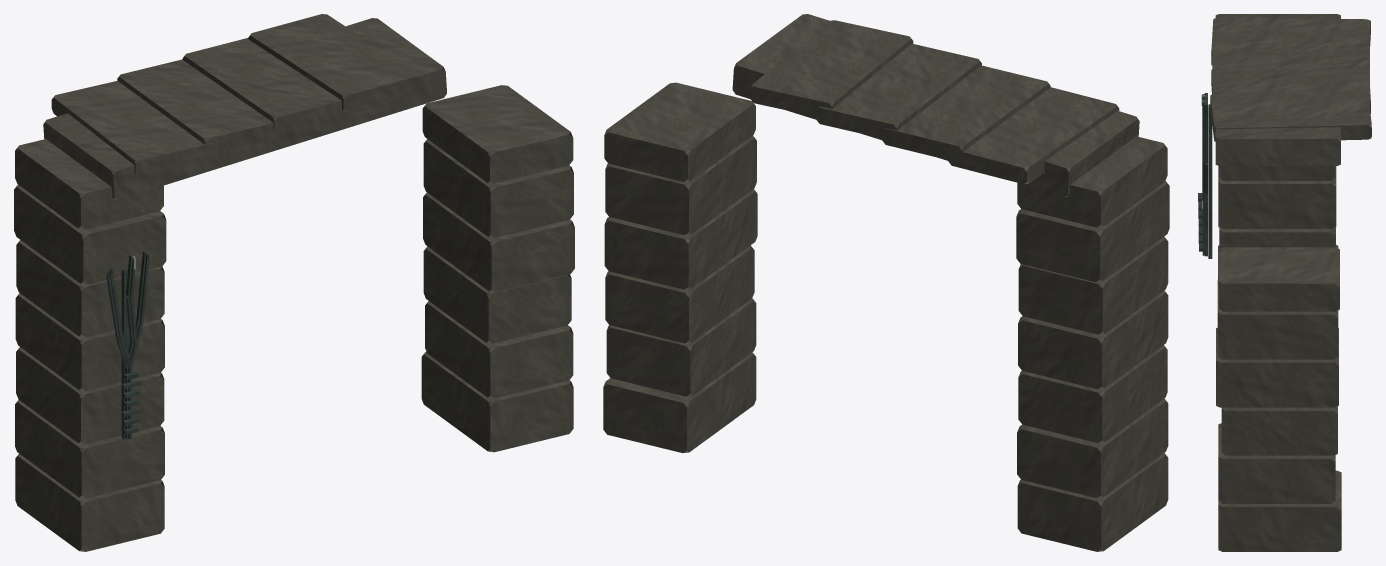
File: cataclysm_upland_shelter-lod1.gltf
The picture shows the model from 3 angles, left to right: view 1: azimuth 30°, elevation 25°; view 2: azimuth 150°, elevation 25°; view 3: azimuth 270°, elevation 25°; orthographic projection. The views are drawn at different scales.
Visible parts, largest first — view 1: cataclysm_upland_shelter LOD1 cataclysm_upland_shelter; view 2: cataclysm_upland_shelter LOD1 cataclysm_upland_shelter; view 3: cataclysm_upland_shelter LOD1 cataclysm_upland_shelter.
Part boxes in pixels (x1,y1,x2,y2): cataclysm_upland_shelter LOD1 cataclysm_upland_shelter: (14, 14, 574, 551); cataclysm_upland_shelter LOD1 cataclysm_upland_shelter: (603, 14, 1169, 551); cataclysm_upland_shelter LOD1 cataclysm_upland_shelter: (1198, 14, 1371, 551).
Bounding box in the file's own units: 3.17 × 2.44 × 1.08.
3 materials, 2 textured.
